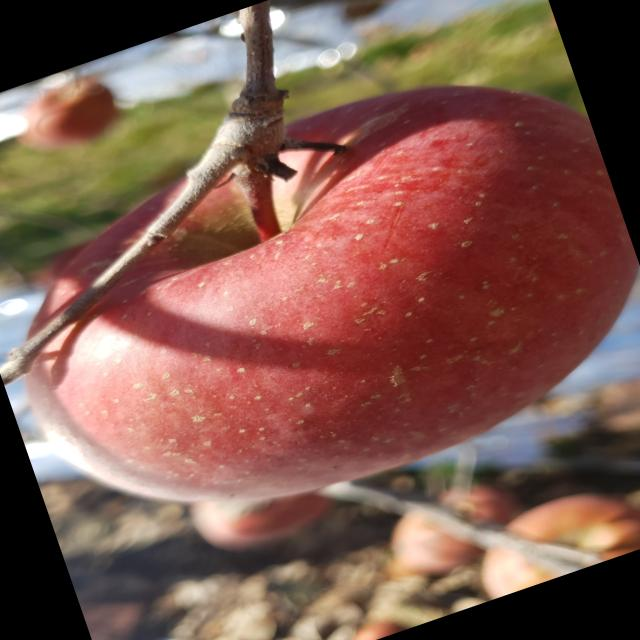fresh: (1, 16, 640, 583)
